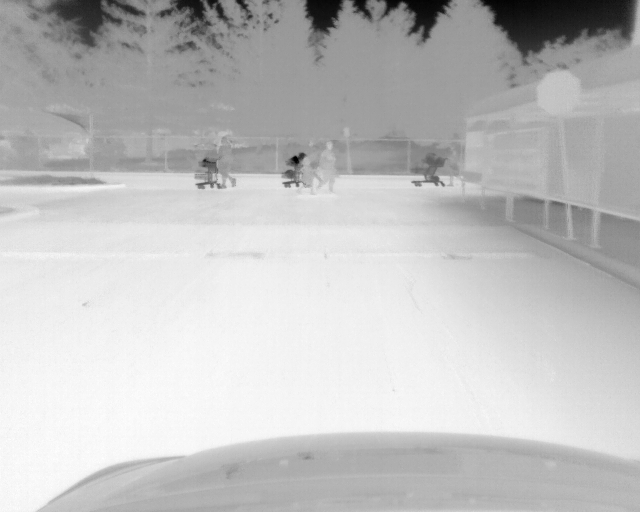people: (213, 129, 239, 190), (318, 141, 339, 194), (443, 143, 464, 187), (304, 141, 321, 186), (298, 157, 317, 194)
